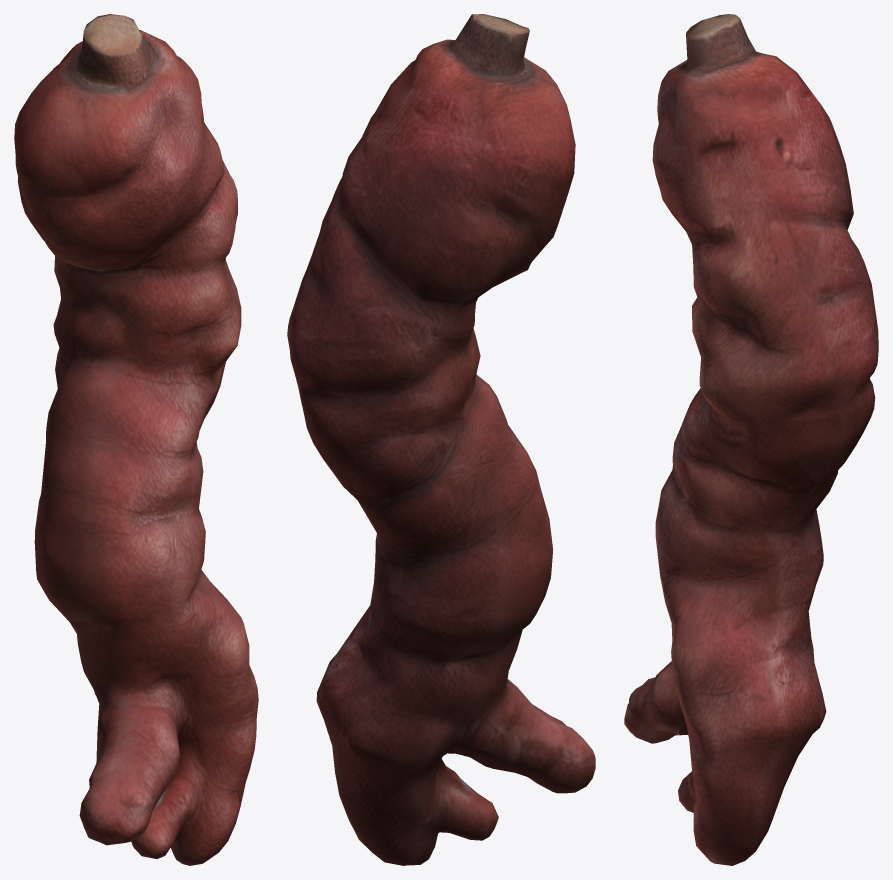
Rendered from Prop_RedRoot.fbx.
3 renders of one model, left to right at view 1: azimuth 30°, elevation 25°; view 2: azimuth 150°, elevation 25°; view 3: azimuth 270°, elevation 25°, orthographic. The views are drawn at different scales.
Parts seen in each view (by area): view 1: texture_mapping; view 2: texture_mapping; view 3: texture_mapping.
Boxes of the visible parts, box(x1,y1,x2,y2) form: texture_mapping: box(14, 14, 258, 865); texture_mapping: box(287, 14, 595, 865); texture_mapping: box(624, 14, 878, 865).
Bounding box in the file's own units: 0.289 × 0.2869 × 1.
1 material, 1 textured.
